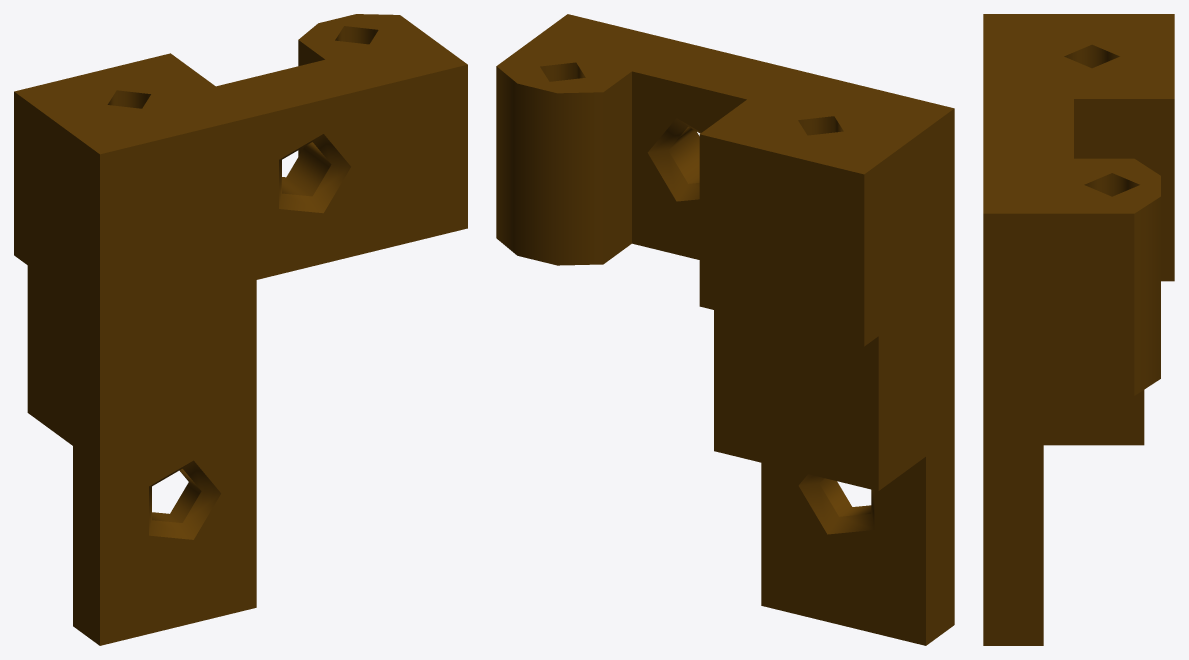
File: Pied marteaux Heures.obj
3 views of the same model, side by side, from view 1: azimuth 30°, elevation 25°; view 2: azimuth 150°, elevation 25°; view 3: azimuth 270°, elevation 25° (orthographic). The views are drawn at different scales.
Visible parts, largest first — view 1: Face_9, Face_2, Face_3, Face_23, Face_25, Face_20, Face_21; view 2: Face_2, Face_8, Face_3, Face_10, Face_12, Face_13, Face_15, Face_14, Face_22, Face_24, Face_20, Face_21; view 3: Face_3, Face_6, Face_4, Face_13, Face_16, Face_17.
Part boxes in pixels (left/top/right/bottom): Face_9: left=100, top=64, right=467, bottom=645; Face_2: left=14, top=92, right=99, bottom=645; Face_3: left=14, top=14, right=467, bottom=154; Face_23: left=149, top=460, right=220, bottom=539; Face_25: left=279, top=134, right=350, bottom=213; Face_20: left=282, top=142, right=331, bottom=196; Face_21: left=152, top=469, right=201, bottom=522; Face_2: left=864, top=108, right=954, bottom=645; Face_8: left=699, top=134, right=864, bottom=346; Face_3: left=496, top=14, right=953, bottom=174; Face_10: left=714, top=310, right=878, bottom=491; Face_12: left=761, top=457, right=925, bottom=645; Face_13: left=496, top=66, right=603, bottom=265; Face_15: left=632, top=71, right=746, bottom=259; Face_14: left=603, top=71, right=631, bottom=264; Face_22: left=798, top=474, right=874, bottom=534; Face_24: left=647, top=118, right=701, bottom=201; Face_20: left=668, top=126, right=699, bottom=183; Face_21: left=819, top=478, right=871, bottom=516; Face_3: left=983, top=14, right=1174, bottom=213; Face_6: left=983, top=99, right=1174, bottom=645; Face_4: left=983, top=213, right=1134, bottom=395; Face_13: left=1134, top=196, right=1160, bottom=395; Face_16: left=1084, top=173, right=1139, bottom=196; Face_17: left=1064, top=44, right=1119, bottom=68.
Bounding box in the file's own units: 0.0235 × 0.03 × 0.0095.
